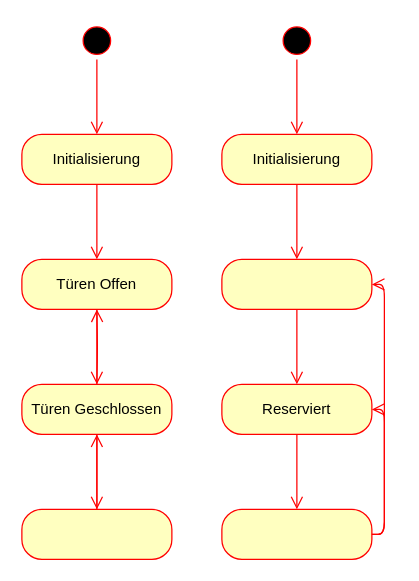
Some shapes in this 419 by 581 pixel diagram are drawn without their labels. The shapes that lost their labels are listed below. From the top down, each one's box as (x1, y1, x2, y2) in pixels, then its label:
(221, 258, 372, 309): Warten
(21, 508, 172, 559): Fahren
(221, 508, 372, 559): Besetzt
